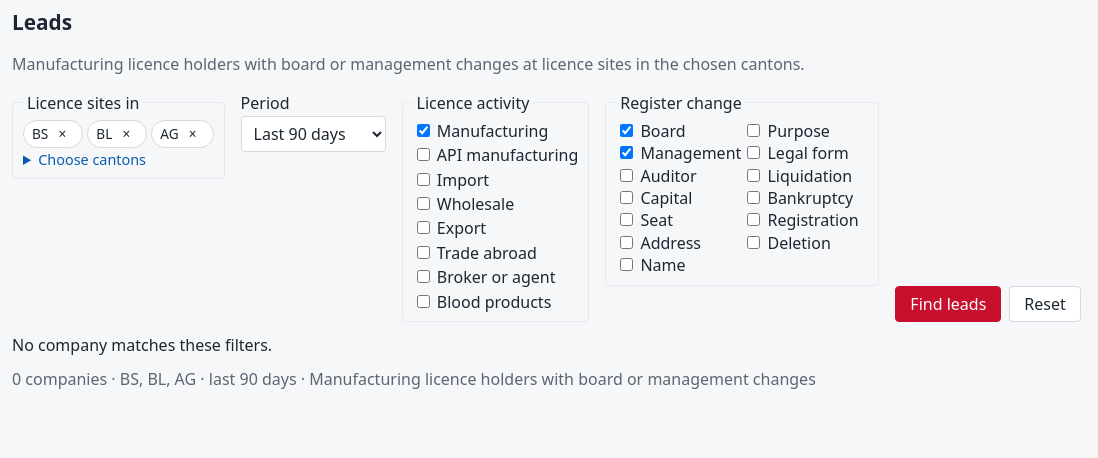
Test case: asks for at least one activity before searching
The width and height of the screenshot is (1098, 458).
Check: the text "No company matches these filters." is shown, box [12,334,272,356]
Click the checkbox labelled "Manufacturing".
click(423, 130)  # box [417,124,430,137]
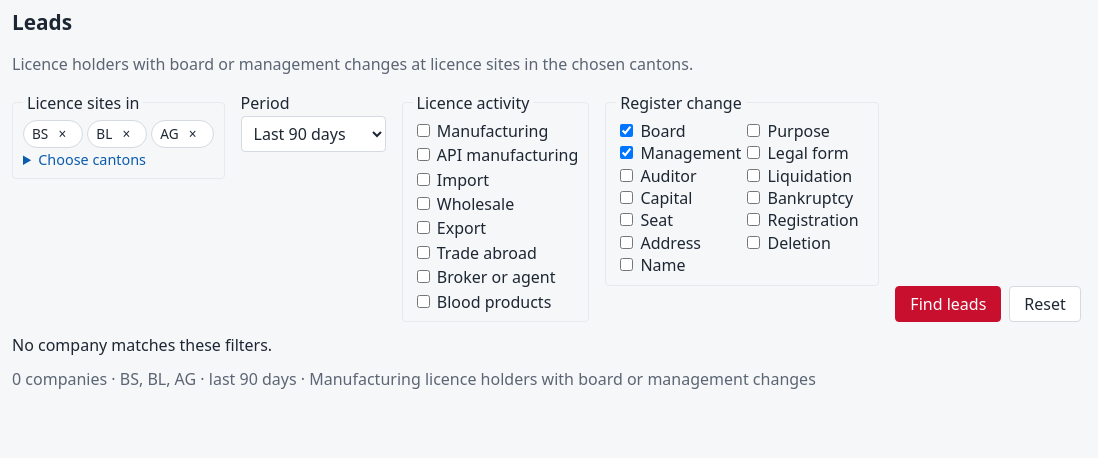
Click the button "Find leads".
click(948, 304)  # box [895,286,1001,322]
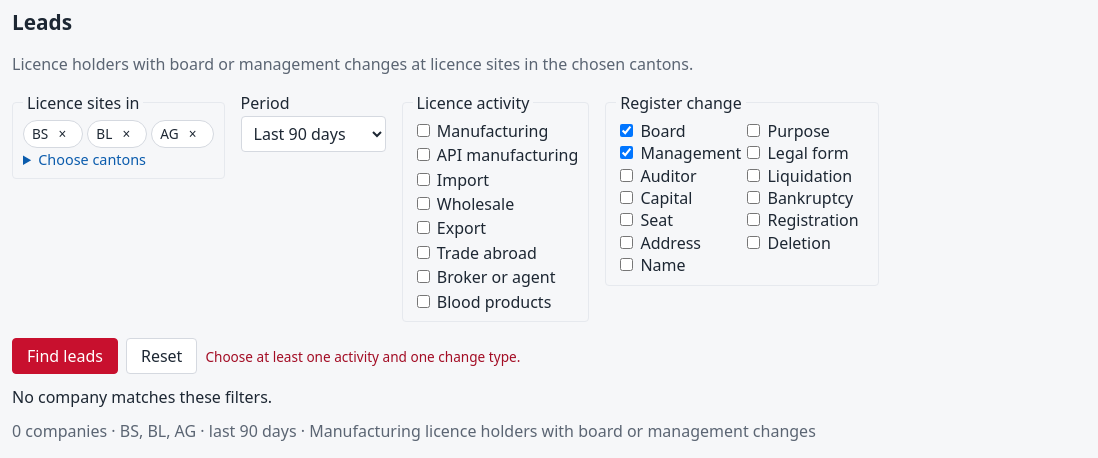
Check: the message "Choose at least one activity and one change type." is shown, box [205,346,520,366]
